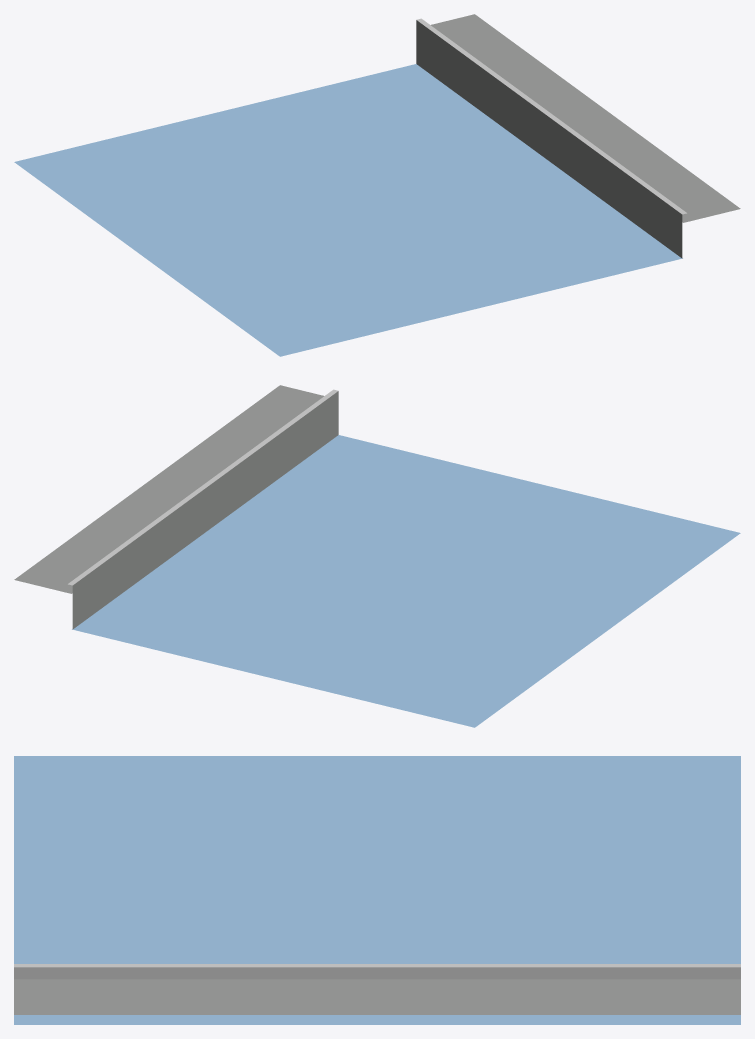
File: bangpa.glb
The picture shows the model from 3 angles, top to bottom: view 1: azimuth 30°, elevation 25°; view 2: azimuth 150°, elevation 25°; view 3: azimuth 270°, elevation 25°; orthographic projection. The views are drawn at different scales.
Parts seen in each view (by area): view 1: road_tile_river_2x2_008(Clone); view 2: road_tile_river_2x2_008(Clone); view 3: road_tile_river_2x2_008(Clone).
Boxes of the visible parts, x1,y1,x2,y2 form: road_tile_river_2x2_008(Clone): [14, 14, 740, 356]; road_tile_river_2x2_008(Clone): [14, 385, 740, 727]; road_tile_river_2x2_008(Clone): [14, 756, 740, 1024].
Bounding box in the file's own units: 16 × 1.46 × 16.
1 material, 1 textured.
